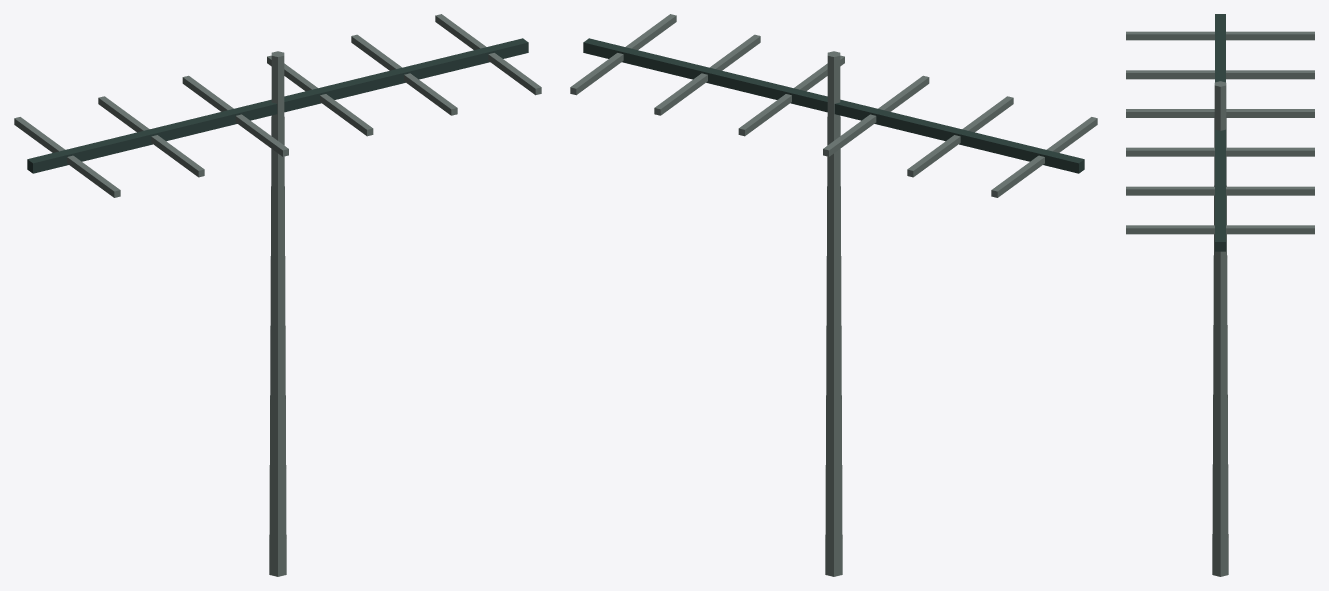
File: RoofAerial.obj
The picture shows the model from 3 angles, left to right: view 1: azimuth 30°, elevation 25°; view 2: azimuth 150°, elevation 25°; view 3: azimuth 270°, elevation 25°; orthographic projection. The views are drawn at different scales.
Visible parts, largest first — view 1: RoofAerial; view 2: RoofAerial; view 3: RoofAerial.
Part boxes in pixels (left/top/right/bottom): RoofAerial: left=14, top=14, right=541, bottom=576; RoofAerial: left=570, top=14, right=1097, bottom=576; RoofAerial: left=1126, top=14, right=1314, bottom=576.
Size of the model in its own units: 2 by 2 by 0.7.
1 material, 1 textured.
